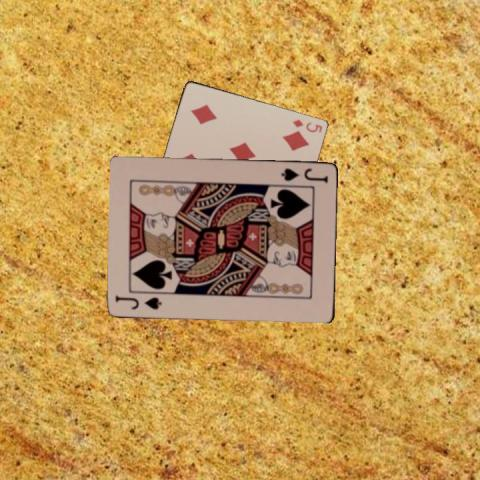5d: (290, 116, 324, 134)
Js: (279, 164, 329, 184), (113, 292, 163, 311)
